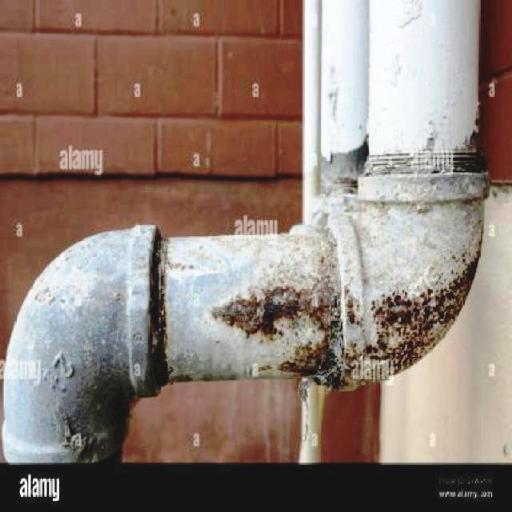corrosion: (212, 287, 441, 391)
